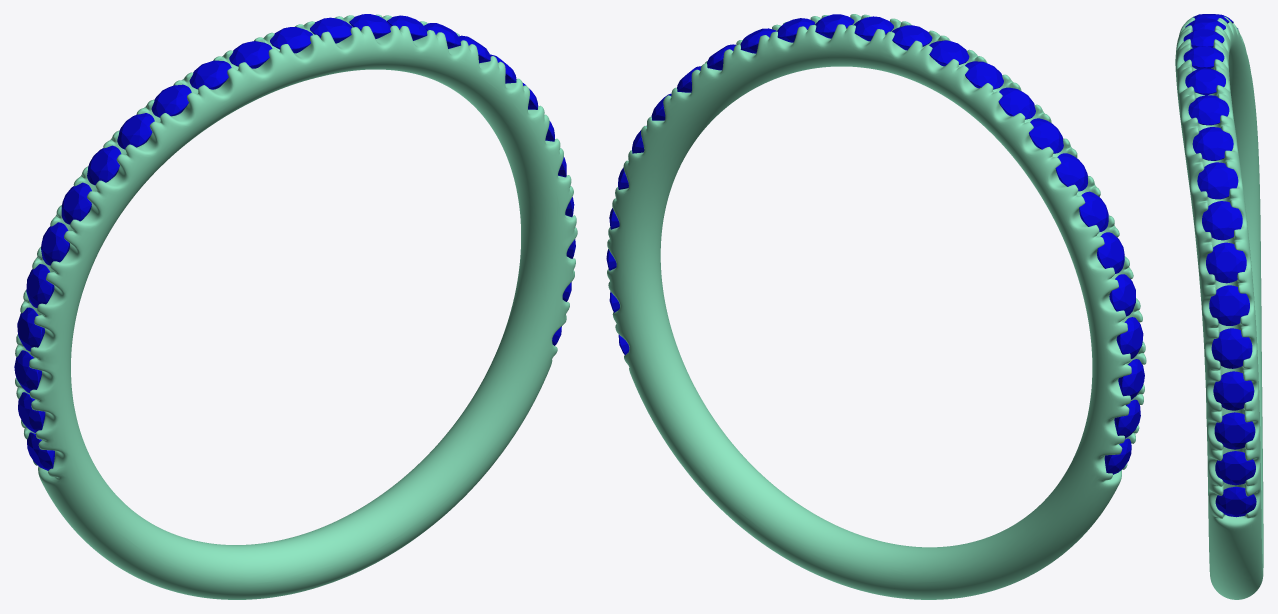
3 renders of one model, left to right at view 1: azimuth 30°, elevation 25°; view 2: azimuth 150°, elevation 25°; view 3: azimuth 270°, elevation 25°, orthographic. The views are drawn at different scales.
Parts seen in each view (by area): view 1: Metal03, Diamond_Band.005, Diamond_Band.004, Diamond_Band.006, Diamond_Band.003, Diamond_Band.007, Diamond_Band.002, Diamond_Band.008, Diamond_Band.001, Diamond_Band.009, Diamond_Band, Diamond_Band.010; view 2: Metal03, Diamond_Band.005, Diamond_Band.004, Diamond_Band.006, Diamond_Band.003, Diamond_Band.007, Diamond_Band.002, Diamond_Band.008, Diamond_Band.001, Diamond_Band.009; view 3: Metal03, Diamond_Band.018, Diamond_Band.017, Diamond_Band.019, Diamond_Band.020, Diamond_Band.016, Diamond_Band.021, Diamond_Band.015, Diamond_Band.022, Diamond_Band.014, Diamond_Band.023, Diamond_Band.013 (+5 smaller).
Boxes of the visible parts, x1,y1,x2,y2 form: Metal03: (15,14,577,599); Diamond_Band.005: (87,145,121,185); Diamond_Band.004: (117,113,154,149); Diamond_Band.006: (61,182,91,224); Diamond_Band.003: (151,84,191,117); Diamond_Band.007: (41,222,69,265); Diamond_Band.002: (189,60,231,89); Diamond_Band.008: (26,264,54,307); Diamond_Band.001: (229,41,272,68); Diamond_Band.009: (17,307,44,351); Diamond_Band: (270,27,312,53); Diamond_Band.010: (14,350,41,392); Metal03: (607,14,1146,599); Diamond_Band.005: (1055,153,1087,191); Diamond_Band.004: (1029,118,1063,153); Diamond_Band.006: (1079,191,1108,231); Diamond_Band.003: (998,87,1035,119); Diamond_Band.007: (1097,232,1124,273); Diamond_Band.002: (965,61,1003,89); Diamond_Band.008: (1109,274,1135,316); Diamond_Band.001: (929,40,969,66); Diamond_Band.009: (1116,317,1143,358); Metal03: (1175,16,1263,599); Diamond_Band.018: (1209,285,1249,325); Diamond_Band.017: (1211,328,1252,368); Diamond_Band.019: (1206,242,1246,283); Diamond_Band.020: (1202,201,1242,240); Diamond_Band.016: (1213,371,1254,410); Diamond_Band.021: (1197,162,1238,199); Diamond_Band.015: (1214,412,1255,449); Diamond_Band.022: (1192,127,1233,160); Diamond_Band.014: (1215,451,1255,485); Diamond_Band.023: (1188,95,1229,125); Diamond_Band.013: (1215,486,1256,517).
Size of the model in its own units: 20.76 by 20.82 by 3.14.
